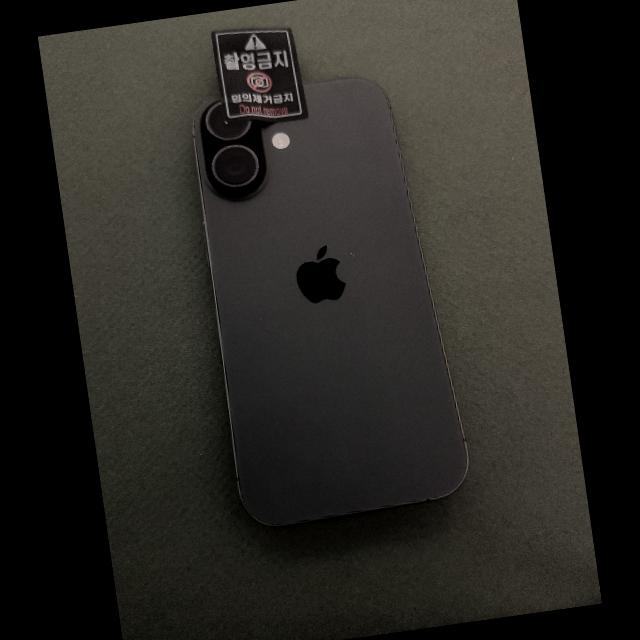lens: (208, 101, 253, 140), (214, 146, 257, 186)
phone: (192, 77, 470, 526)
sticker: (212, 28, 307, 124)
